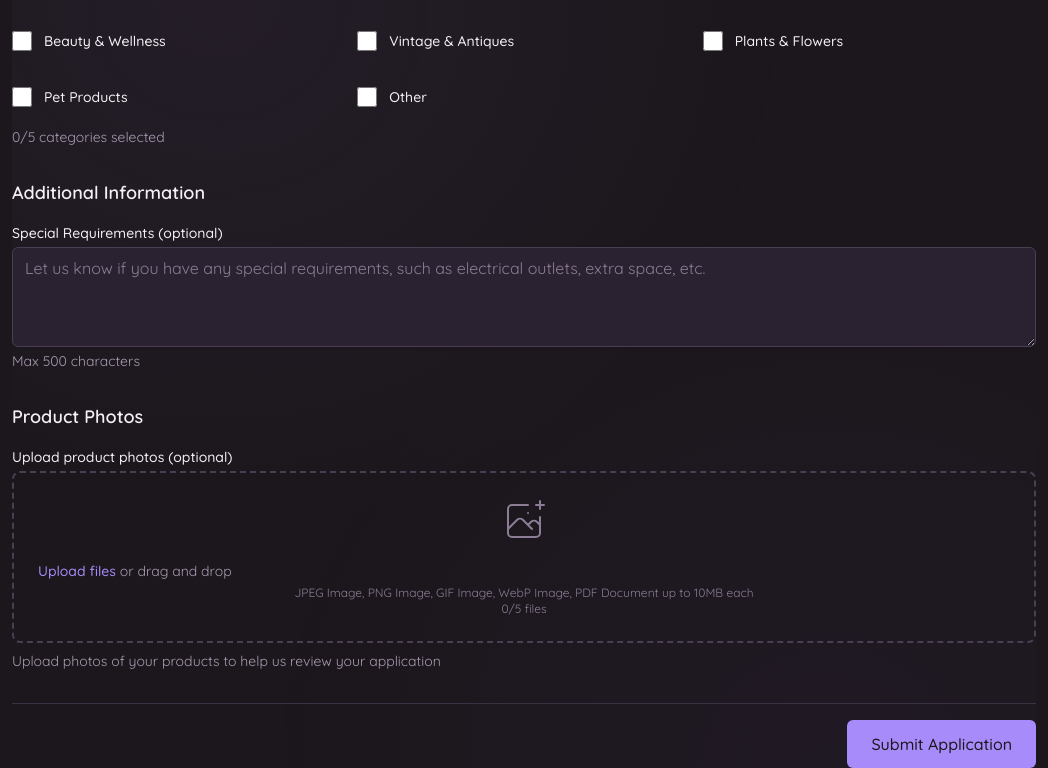
Test: VendorApplicationForm › Validation › shows validation errors for empty required fields on submit
The image size is (1048, 768).
(page scrolled)
// Try to submit empty form
Click the button "Submit Application".
click(942, 744)  # box [847,720,1036,767]
(page scrolled)
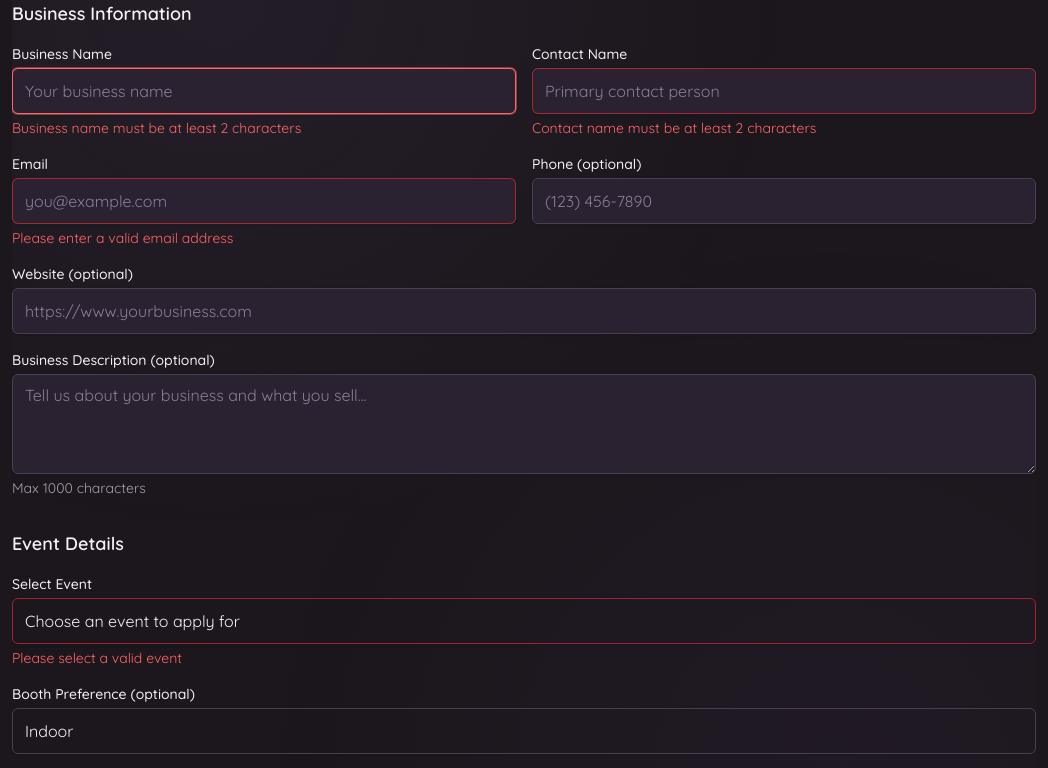
Check: the text "Business name must be at least 2 characters" is shown, box [12,119,301,137]
Check: the text "Contact name must be at least 2 characters" is shown, box [532,119,816,137]
Check: the text "Please enter a valid email address" is shown, box [12,229,233,247]
